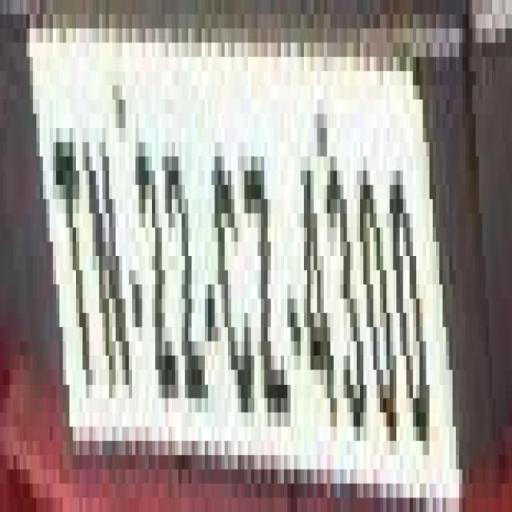number plate: (26, 28, 509, 470)
